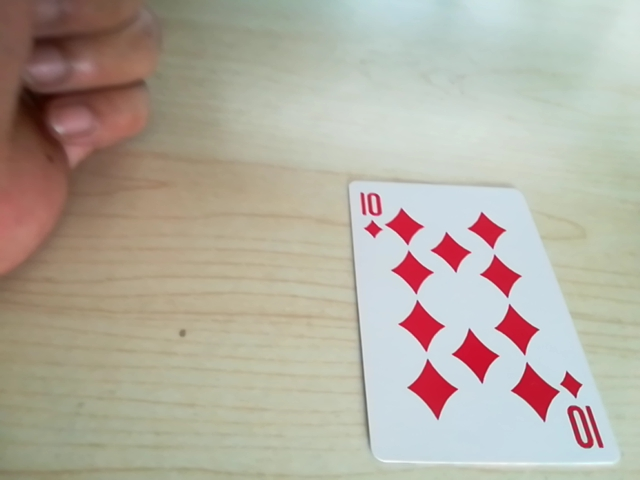fk 10: (561, 376, 601, 458), (355, 184, 397, 242)
